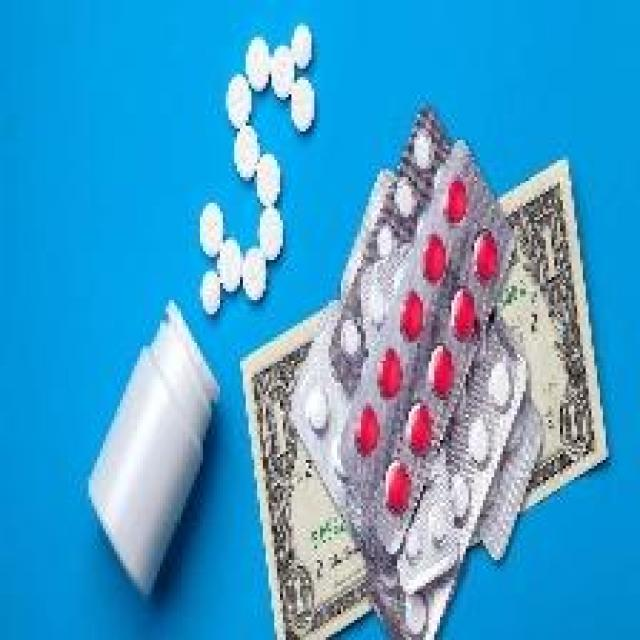Medicine: (90, 19, 639, 640)
